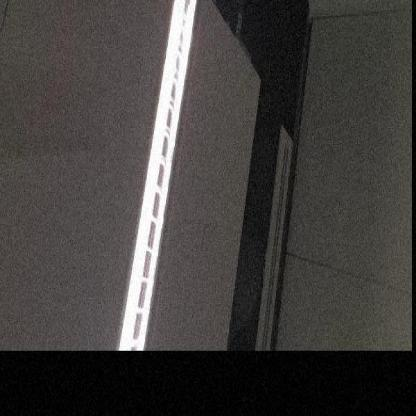light_on: (113, 0, 205, 351)
